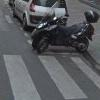Motorcycle: (25, 14, 97, 58)
